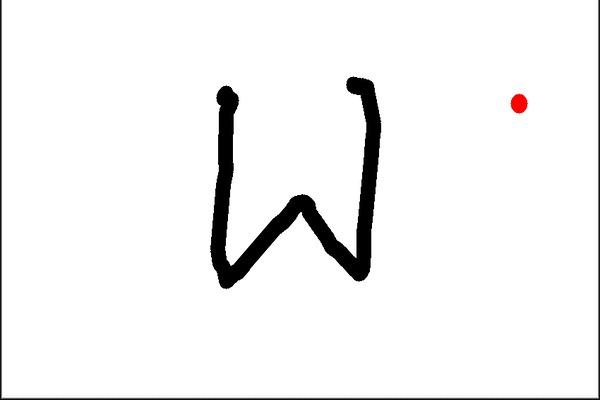w: (205, 59, 395, 304)
